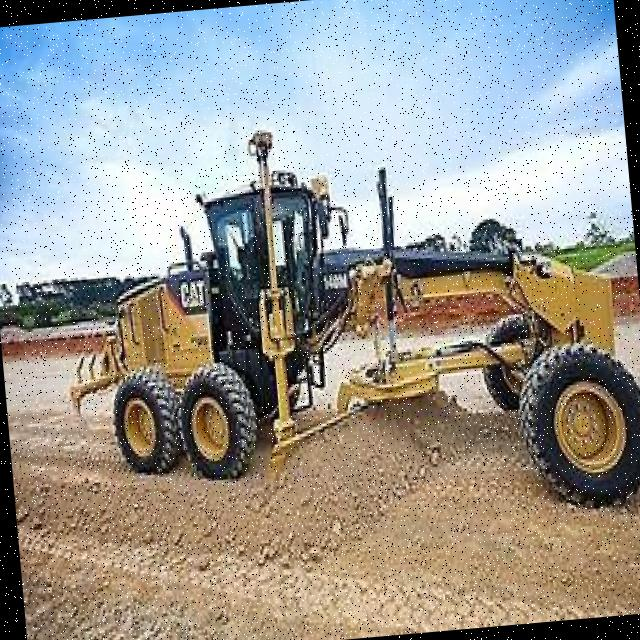Grader: (71, 109, 640, 545)
